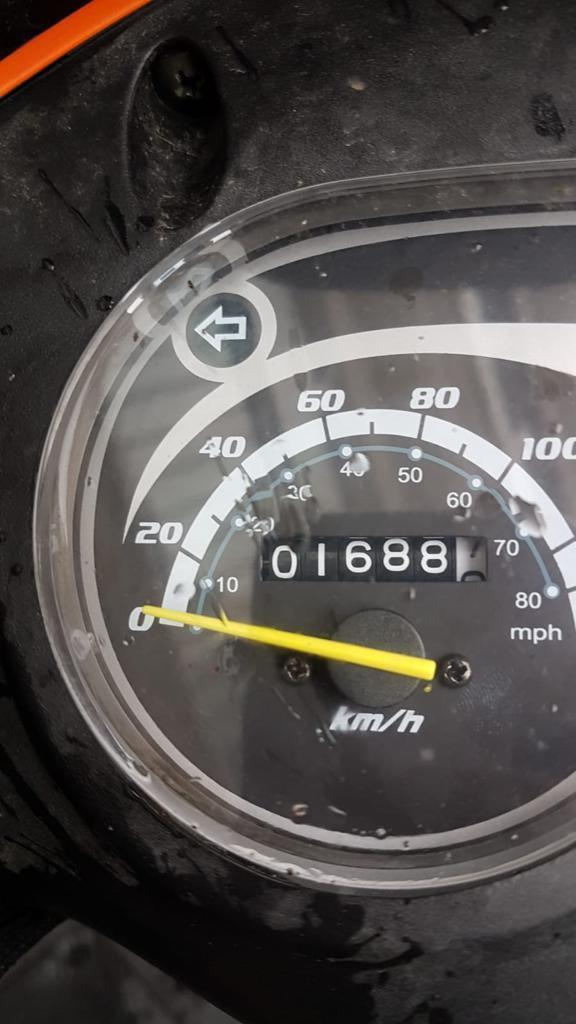0: (269, 538, 300, 583)
1: (313, 538, 333, 585)
6: (343, 538, 375, 578)
7: (461, 535, 486, 562)
8: (381, 538, 410, 575), (420, 539, 447, 578)
odometer: (261, 534, 494, 586)
